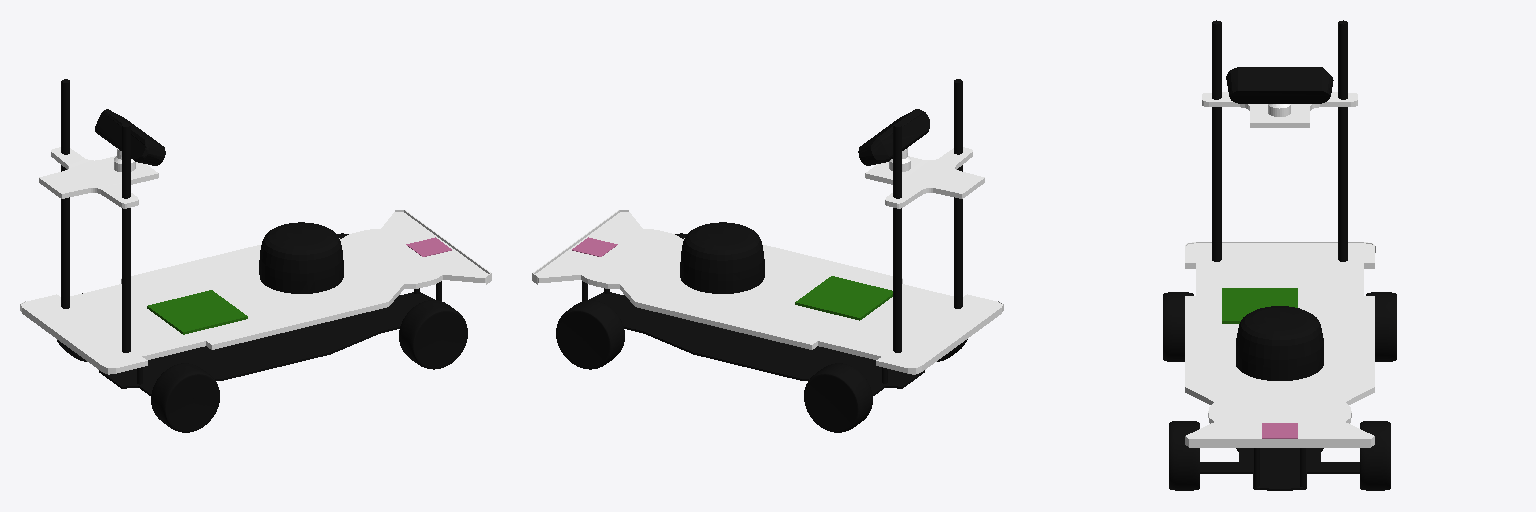
The robot description file, URDF, robot "car":
<?xml version="1.0"?>
<robot name="car">

  <material name="black">
    <color rgba="0.1 0.1 0.1 1"/>
  </material>

  <material name="plastic">
    <color rgba="1 1 1 0.25"/>
  </material>

  <material name="imu">
    <color rgba="0.2 0.5 0.1 1"/>
  </material>

  <material name="grey">
    <color rgba="0.75 0.75 0.75 1"/>
  </material>

  <material name="white">
    <color rgba="0.95 0.95 0.95 1"/>
  </material>		
  
  <link name="base_link">
    <visual>
      <origin rpy="0.0 0 0" xyz="0 0 0.01"/>
      <geometry>
        <mesh filename="package://car_description/meshes/chasi.dae"/>
      </geometry>
      <material name="black"/>
    </visual>
    <collision>
      <origin rpy="0.0 0 0" xyz="0 0 0.01"/>
      <geometry>
        <mesh filename="package://car_description/meshes/chasi.dae"/>
      </geometry>
    </collision>
  </link>

  <link name="board">
    <visual>
      <origin rpy="0.0 0 0" xyz="0 0 0"/>
      <geometry>
        <mesh filename="package://car_description/meshes/board.dae"/>
      </geometry>
      <material name="plastic"/>
    </visual>
    <collision>
      <geometry>
        <mesh filename="package://car_description/meshes/board.dae"/>
      </geometry>
    </collision>
    <inertial>
      <mass value="1.0"/>
      <inertia ixx="0.00213542" ixy="0.0" ixz="0.0" iyy="0.01235417" iyz="0.0" izz="0.01448542"/>
    </inertial>
  </link>

  <link name="camera">
    <visual>
      <origin rpy="-2.0944 0 -1.570796" xyz="0 0 0"/>
      <geometry>
        <mesh filename="package://car_description/meshes/camera.dae"/>
      </geometry>
      <material name="black"/>
    </visual>
    <collision>
      <origin rpy="-2.0944 0 -1.570796" xyz="0 0 0"/>
      <geometry>
        <mesh filename="package://car_description/meshes/camera.dae"/>
      </geometry>
    </collision>
    <inertial>
      <mass value="0.1"/>
      <inertia ixx="0.00001051" ixy="0.0" ixz="0.0" iyy="0.00006385" iyz="0.0" izz="0.00006403"/>
    </inertial>
  </link>

  <link name="camera_board">
    <visual>
      <origin rpy="0.0 0 0" xyz="0 0 0"/>
      <geometry>
        <mesh filename="package://car_description/meshes/camera_board.dae"/>
      </geometry>
      <material name="plastic"/>
    </visual>
    <collision>
      <geometry>
        <mesh filename="package://car_description/meshes/camera_board.dae"/>
      </geometry>
    </collision>
    <inertial>
      <mass value="0.1"/>
      <inertia ixx="0.00014165" ixy="0.0" ixz="0.0" iyy="0.00006758" iyz="0.0" izz="0.00020865"/>
    </inertial>
  </link>

  <link name="camera_bottom_screw_frame"/>

  <link name="camera_depth_frame"/>

  <link name="laser">
    <visual>
      <origin rpy="0.0 0 0" xyz="0 0 -0.02"/>
      <geometry>
        <mesh filename="package://car_description/meshes/laser.dae"/>
      </geometry>
      <material name="black"/>
    </visual>
    <collision>
       <origin rpy="0.0 0 0" xyz="0 0 -0.02"/>
      <geometry>
        <mesh filename="package://car_description/meshes/laser.dae"/>
      </geometry>
    </collision>
    <inertial>
      <mass value="0.1"/>
      <inertia ixx="0.00005965" ixy="0.0" ixz="0.0" iyy="0.00005759" iyz="0.0" izz="0.00009268"/>
    </inertial>
  </link>

  <link name="wheel_fl">
    <visual>
      <origin rpy="0.0 0 0" xyz="0 0 0"/>
      <geometry>
        <mesh filename="package://car_description/meshes/wheel.dae"/>
      </geometry>
      <material name="black"/>
    </visual>
    <collision>
      <geometry>
        <mesh filename="package://car_description/meshes/wheel.dae"/>
      </geometry>
    </collision>
    <inertial>
      <mass value="0.05"/>
      <inertia ixx="0.00001793" ixy="0.0" ixz="0.0" iyy="0.00002867" iyz="0.0" izz="0.00001813"/>
    </inertial>
  </link>

  <link name="wheel_fr">
    <visual>
      <origin rpy="0.0 0 0" xyz="0 0 0"/>
      <geometry>
        <mesh filename="package://car_description/meshes/wheel.dae"/>
      </geometry>
      <material name="black"/>
    </visual>
    <collision>
      <geometry>
        <mesh filename="package://car_description/meshes/wheel.dae"/>
      </geometry>
    </collision>
    <inertial>
      <mass value="0.05"/>
      <inertia ixx="0.00001793" ixy="0.0" ixz="0.0" iyy="0.00002867" iyz="0.0" izz="0.00001813"/>
    </inertial>
  </link>

  <link name="wheel_bl">
    <visual>
      <origin rpy="0.0 0 0" xyz="0 0 0"/>
      <geometry>
        <mesh filename="package://car_description/meshes/wheel.dae"/>
      </geometry>
      <material name="black"/>
    </visual>
    <collision>
      <geometry>
        <mesh filename="package://car_description/meshes/wheel.dae"/>
      </geometry>
    </collision>
    <inertial>
      <mass value="0.05"/>
      <inertia ixx="0.00001793" ixy="0.0" ixz="0.0" iyy="0.00002867" iyz="0.0" izz="0.00001813"/>
    </inertial>
  </link>

  <link name="wheel_br">
    <visual>
      <origin rpy="0.0 0 0" xyz="0 0 0"/>
      <geometry>
        <mesh filename="package://car_description/meshes/wheel.dae"/>
      </geometry>
      <material name="black"/>
    </visual>
    <collision>
      <geometry>>

        <mesh filename="package://car_description/meshes/wheel.dae"/>
      </geometry>
    </collision>
    <inertial>
      <mass value="0.05"/>
      <inertia ixx="0.00001793" ixy="0.0" ixz="0.0" iyy="0.00002867" iyz="0.0" izz="0.00001813"/>
    </inertial>
  </link>

  <link name="axis_fl">
    <visual>
      <origin rpy="0.0 0 0" xyz="0 0 0"/>
      <geometry>
        <box size="0.001 0.001 0.001"/>
      </geometry>
      <material name="black"/>
    </visual>
    <collision>
      <geometry>
        <box size="0.001 0.001 0.001"/>
      </geometry>
    </collision>
    <inertial>
      <mass value="0.1"/>
      <inertia ixx="0.00000002" ixy="0.0" ixz="0.0" iyy="0.00000002" iyz="0.0" izz="0.00000002"/>
    </inertial>
  </link>

  <link name="axis_fr">
    <visual>
      <origin rpy="0.0 0 0" xyz="0 0 0"/>
      <geometry>
        <box size="0.001 0.001 0.001"/>
      </geometry>
      <material name="black"/>
    </visual>
    <collision>
      <geometry>
        <box size="0.001 0.001 0.001"/>
      </geometry>
    </collision>
    <inertial>
      <mass value="0.1"/>
      <inertia ixx="0.00000002" ixy="0.0" ixz="0.0" iyy="0.00000002" iyz="0.0" izz="0.00000002"/>
    </inertial>
  </link>

  <link name="imu">
    <visual>
      <geometry>
        <box size="0.066 0.064 0.01"/>
      </geometry>
      <origin rpy="0 0 0" xyz="0 0 0"/> 
      <material name="imu"/>     
    </visual>
    <collision>
      <geometry>
        <box size="0.066 0.064 0.01"/>
      </geometry>
    </collision>
    <inertial>
      <mass value="0.2"/>
      <inertia ixx="0.00006993" ixy="0.0" ixz="0.0" iyy="0.00007427" iyz="0.0" izz="0.00014087"/>
    </inertial>
  </link>

  <link name="marker">
    <visual>
      <geometry>
        <mesh filename="package://car_description/meshes/marker.dae"/>
      </geometry>
      <origin rpy="0 0 1.5708" xyz="0 0 0"/>
          
    </visual>
    <collision>
      <geometry>
        <box size="0.03 0.03 0.000001"/>
      </geometry>
    </collision>
    <inertial>
      <mass value="0.001"/>
      <inertia ixx="0.00000008" ixy="0.0" ixz="0.0" iyy="0.00000008" iyz="0.0" izz="0.00000015"/>
    </inertial>
  </link>

  <link name="support_l">
    <visual>
      <geometry>
        <cylinder length="0.22" radius="0.004"/>
      </geometry>
      <origin rpy="0 0 0" xyz="0 0 0"/>
      <material name="black"/>      
    </visual>
    <collision>
      <geometry>
        <cylinder length="0.22" radius="0.004"/>
      </geometry>
    </collision>
    <inertial>
      <mass value="0.001"/>
      <inertia ixx="0.00000404" ixy="0.0" ixz="0.0" iyy="0.00000404" iyz="0.0" izz="0.00000001"/>
    </inertial>
  </link>

  <link name="support_r">
    <visual>
      <geometry>
        <cylinder length="0.22" radius="0.004"/>
      </geometry>
      <origin rpy="0 0 0" xyz="0 0 0"/>
      <material name="black"/>      
    </visual>
    <collision>
      <geometry>
        <cylinder length="0.22" radius="0.004"/>
      </geometry>
    </collision>
    <inertial>
      <mass value="0.001"/>
      <inertia ixx="0.00000404" ixy="0.0" ixz="0.0" iyy="0.00000404" iyz="0.0" izz="0.00000001"/>
    </inertial>
  </link>

  <joint name="base_link_board" type="fixed">
    <parent link="base_link"/>
    <child link="board"/>
    <origin xyz="-0.018 0 0.06"/>
  </joint>

  <joint name="board_cameraboard" type="fixed">
    <parent link="board"/>
    <child link="camera_board"/>
    <origin xyz="-0.160 0 0.15"/>
  </joint>

  <joint name="camera_cameraboard" type="fixed">
    <parent link="camera_board"/>
    <child link="camera"/>
    <origin xyz="0.035 0 0.03"/>
  </joint>

  <joint name="camera_depth" type="fixed">
    <parent link="camera"/>
    <child link="camera_depth_frame"/>
    <origin rpy="-1.57079632679 0 -1.57079632679"/>
  </joint>

  <joint name="camera_joint" type="fixed">
    <origin rpy="0 0 0" xyz="0.035 0 0.03"/>
    <parent link="camera_board"/>
    <child link="camera_bottom_screw_frame"/>
  </joint>

  <joint name="board_laster" type="fixed">
    <parent link="board"/>
    <child link="laser"/>
    <origin rpy="0 0 3.14159" xyz="0.05 0 0.025"/>
  </joint>

    <joint name="board_imu" type="fixed">
    <parent link="board"/>
    <child link="imu"/>
    <origin xyz="-0.06559 -0.017 0"/>
  </joint>

  <joint name="board_marker" type="fixed">
    <parent link="board"/>
    <child link="marker"/>
    <origin xyz="0.18 0 0.0025"/>
  </joint>

  <joint name="frontwheel_steering_left" type="revolute">
    <axis xyz="0 0 1"/>
    <limit effort="1000.0" lower="-0.55" upper="0.55" velocity="2"/>
    <parent link="base_link"/>
    <child link="axis_fl"/>
    <origin xyz="0.12 0.08 0.02"/>
  </joint>

  <joint name="frontwheel_steering_right" type="revolute">
    <axis xyz="0 0 1"/>
    <limit effort="1000.0" lower="-0.55" upper="0.55" velocity="2"/>
    <parent link="base_link"/>
    <child link="axis_fr"/>
    <origin xyz="0.12 -0.08 0.02"/>
  </joint>

  <joint name="frontwheel_left" type="revolute">
    <axis xyz="0 1 0"/>
    <anchor xyz="0 0 0"/>
    <parent link="axis_fl"/>
    <child link="wheel_fl"/>
    <origin xyz="0 0 0"/>
    <limit effort="0.1" lower="-1000000000000.0" upper="1000000000000.0" velocity="124"/>
  </joint>

  <joint name="frontwheel_right" type="revolute">
    <axis xyz="0 1 0"/>
    <parent link="axis_fr"/>
    <child link="wheel_fr"/>
    <origin xyz="0 0 0"/>
    <limit effort="0.1" lower="-1000000000000.0" upper="1000000000000.0" velocity="124"/>
  </joint>

   <joint name="rearwheel_left" type="revolute">
    <axis xyz="0 1 0"/>
    <parent link="base_link"/>
    <child link="wheel_bl"/>
    <origin xyz="-0.135 0.085 0.02"/>
    <limit effort="0.1" lower="-1000000000000.0" upper="1000000000000.0" velocity="124"/>
  </joint>

  <joint name="rearwheel_right" type="revolute">
    <axis xyz="0 1 0"/>
    <parent link="base_link"/>
    <child link="wheel_br"/>
    <origin xyz="-0.135 -0.085 0.02"/>
    <limit effort="0.1" lower="-1000000000000.0" upper="1000000000000.0" velocity="124"/>
  </joint>

  <joint name="board_support_l" type="fixed">
    <parent link="board"/>
    <child link="support_l"/>
    <origin xyz="-0.159000 0.053000 0.112000"/>
  </joint>

  <joint name="board_support_r" type="fixed">
    <parent link="board"/>
    <child link="support_r"/>
    <origin xyz="-0.159000 -0.053000 0.112000"/>
  </joint>

  <transmission name="steering_front_left_wheel">
    <type>transmission_interface/SimpleTransmission</type>
    <joint name="frontwheel_steering_left">
      <hardwareInterface>hardware_interface/EffortJointInterface</hardwareInterface>
    </joint>
    <actuator name="front_left_steering_motor">
      <hardwareInterface>hardware_interface/EffortJointInterface</hardwareInterface>
      <mechanicalReduction>1</mechanicalReduction>
    </actuator>
  </transmission>

  <transmission name="steering_front_right_wheel">
    <type>transmission_interface/SimpleTransmission</type>
    <joint name="frontwheel_steering_right">
      <hardwareInterface>hardware_interface/EffortJointInterface</hardwareInterface>
    </joint>
    <actuator name="front_right_steering_motor">
      <hardwareInterface>hardware_interface/EffortJointInterface</hardwareInterface>
      <mechanicalReduction>1</mechanicalReduction>
    </actuator>
  </transmission>

  <transmission name="tran_front_left_wheel">
    <type>transmission_interface/SimpleTransmission</type>
    <joint name="frontwheel_left">
      <hardwareInterface>hardware_interface/EffortJointInterface</hardwareInterface>
    </joint>
    <actuator name="front_left_wheel_motor">
      <hardwareInterface>hardware_interface/EffortJointInterface</hardwareInterface>
      <mechanicalReduction>1</mechanicalReduction>
    </actuator>
  </transmission>

  <transmission name="tran_front_right_wheel">
    <type>transmission_interface/SimpleTransmission</type>
    <joint name="frontwheel_right">
      <hardwareInterface>hardware_interface/EffortJointInterface</hardwareInterface>
    </joint>
    <actuator name="front_right_wheel_motor">
      <hardwareInterface>hardware_interface/EffortJointInterface</hardwareInterface>
      <mechanicalReduction>1</mechanicalReduction>
    </actuator>
  </transmission>

  <transmission name="tran_rear_left">
    <type>transmission_interface/SimpleTransmission</type>
    <joint name="rearwheel_left">
      <hardwareInterface>hardware_interface/EffortJointInterface</hardwareInterface>
    </joint>
    <actuator name="rear_left_motor">
      <hardwareInterface>hardware_interface/EffortJointInterface</hardwareInterface>
      <mechanicalReduction>1</mechanicalReduction>
    </actuator>
  </transmission>

  <transmission name="tran_rear_right">
    <type>transmission_interface/SimpleTransmission</type>
    <joint name="rearwheel_right">
      <hardwareInterface>hardware_interface/EffortJointInterface</hardwareInterface>
    </joint>
    <actuator name="rear_right_motor">
      <hardwareInterface>hardware_interface/EffortJointInterface</hardwareInterface>
      <mechanicalReduction>1</mechanicalReduction>
    </actuator>
  </transmission>

  <gazebo reference="rearwheel_left">
    <implicitSpringDamper>true</implicitSpringDamper>
  </gazebo>
  <gazebo reference="rearwheel_right">
    <implicitSpringDamper>true</implicitSpringDamper>
  </gazebo>
  <gazebo reference="frontwheel_right">
    <implicitSpringDamper>true</implicitSpringDamper>
  </gazebo>
  <gazebo reference="frontwheel_left">
    <implicitSpringDamper>true</implicitSpringDamper>
  </gazebo>
  <gazebo reference="frontwheel_steering_right">
    <implicitSpringDamper>true</implicitSpringDamper>
  </gazebo>
  <gazebo reference="frontwheel_steering_left">
    <implicitSpringDamper>true</implicitSpringDamper>
  </gazebo>
  <gazebo>
    <plugin filename="libgazebo_ros_control.so" name="gazebo_ros_control">
      <robotNamespace>model_car</robotNamespace>
    </plugin>
  </gazebo>

  <gazebo>
    <plugin name="model_car_ground_truth" filename="libgazebo_ros_p3d.so">
      <frameName>map</frameName>
      <bodyName>base_link</bodyName>
      <topicName>/simulation/odom_ground_truth</topicName>
      <updateRate>30.0</updateRate>
    </plugin>
  </gazebo>

  <gazebo>
    <plugin filename="libhector_gazebo_ros_imu.so" name="autominy_imu">
      <updateRate>100.0</updateRate>
      <robotNamespace>/</robotNamespace>
      <bodyName>imu</bodyName>
      <frameId>imu</frameId>
      <topicName>sensors/imu</topicName>
      <accelOffset>0 0 0</accelOffset>
      <accelDrift>0.5 0.5 0.5</accelDrift>
      <accelGaussianNoise>0.15 0.15 0.1</accelGaussianNoise>
      <rateOffset>0 0 0</rateOffset>
      <rateDrift>0.0 0.0 0.0</rateDrift>
      <rateGaussianNoise>0.005 0.005 0.0015</rateGaussianNoise>
      <headingOffset>0</headingOffset>
      <headingDrift>0.1</headingDrift>
      <headingGaussianNoise>0.05</headingGaussianNoise>
    </plugin>
  </gazebo>

  <gazebo reference="camera">
    <sensor type="depth" name="camera1">       
      <always_on>1</always_on>
      <visualize>true</visualize>
      <update_rate>15.0</update_rate>
      <camera>
        <pose>0 0 0 0 0.30 0</pose>
        <horizontal_fov>1.59174</horizontal_fov>
        <image>
          <width>640</width>
          <height>480</height>
          <format>L8</format>
        </image>
        <depth_camera>
        </depth_camera>
        <clip>
          <near>0.01</near>
          <far>50.0</far>
        </clip>
        <noise>
          <type>gaussian</type>
          <mean>0.0</mean>
          <stddev>0.007</stddev>
        </noise>
      </camera>
      <plugin name="camera_controller" filename="libgazebo_ros_openni_kinect.so">
        <alwaysOn>true</alwaysOn>
        <updateRate>15.0</updateRate>
        <cameraName>sensors/camera</cameraName>
        <frameName>camera_depth_frame</frameName>                   
        <imageTopicName>infra1/image_rect_color</imageTopicName>
        <cameraInfoTopicName>infra1/camera_info</cameraInfoTopicName>
        <depthImageTopicName>depth/image_rect_raw</depthImageTopicName>
        <pointCloudTopicName>depth/points</pointCloudTopicName>
        <depthImageCameraInfoTopicName>depth/camera_info</depthImageCameraInfoTopicName>            
        <pointCloudCutoff>0.4</pointCloudCutoff>                
        <hackBaseline>0.007</hackBaseline>
        <CxPrime>322.3056945800781</CxPrime>
        <Cx>322.3056945800781</Cx>
        <Cy>241.67051696777344</Cy>
        <focalLength>383.7944641113281</focalLength>
        <noise>
          <type>gaussian</type>
          <mean>0.0</mean>
          <stddev>0.01</stddev>
        </noise>
      </plugin>
    </sensor>
  </gazebo>

  <gazebo reference="camera">
    <sensor type="camera" name="camera2">
      <update_rate>15.0</update_rate>
      <camera>
        <pose>0 0 0 0 0.30 0</pose>
        <horizontal_fov>0.7417649</horizontal_fov>
        <image>
          <width>640</width>
          <height>480</height>
          <format>R8G8B8</format>
        </image>
        <clip>
          <near>0.01</near>
          <far>50.0</far>
        </clip>
        <noise>
          <type>gaussian</type>
          <mean>0.0</mean>
          <stddev>0.01</stddev>
        </noise>
      </camera>
      <plugin name="camera_controller2" filename="libgazebo_ros_camera.so">
        <alwaysOn>true</alwaysOn>
        <updateRate>15.0</updateRate>
        <cameraName>sensors/camera/color</cameraName>
        <imageTopicName>image_rect_color</imageTopicName>
        <cameraInfoTopicName>camera_info</cameraInfoTopicName>
        <frameName>camera</frameName>
        <hackBaseline>0.0193</hackBaseline>
        <distortionK1>0.0</distortionK1>
        <distortionK2>0.0</distortionK2>
        <distortionK3>0.0</distortionK3>
        <distortionT1>0.0</distortionT1>
        <distortionT2>0.0</distortionT2>
      </plugin>
    </sensor>
  </gazebo>

  <gazebo reference="laser">
    <sensor type="ray" name="rp_lidar_sensor">
      <pose>0 0 0 0 0 0</pose>
      <visualize>false</visualize>
      <update_rate>10</update_rate>
      <ray>
        <scan>
          <horizontal>
            <samples>360</samples>
            <min_angle>-3.14159</min_angle>
            <max_angle>3.14159</max_angle>
          </horizontal>
        </scan>
        <range>
          <min>0.15</min>
          <max>8.0</max>
          <resolution>0.05</resolution>
        </range>
        <noise>
          <type>gaussian</type>
          <mean>0.0</mean>
          <stddev>0.01</stddev>
        </noise>
      </ray>
      <plugin name="gazebo_ros_head_hokuyo_controller" filename="libgazebo_ros_laser.so">
        <topicName>/sensors/rplidar/scan</topicName>
        <frameName>laser</frameName>
      </plugin>
    </sensor>
  </gazebo>
  <gazebo reference="wheel_fl">
    <mu1>1.34</mu1>
    <mu2>1.34</mu2>  
  </gazebo>
  <gazebo reference="wheel_fr">
    <mu1>1.34</mu1>
    <mu2>1.34</mu2>  
  </gazebo>
  <gazebo reference="wheel_br">
    <mu1>1.34</mu1>
    <mu2>1.34</mu2>  
  </gazebo>
  <gazebo reference="wheel_bl">
    <mu1>1.34</mu1>
    <mu2>1.34</mu2>  
  </gazebo>

  <gazebo reference="support_r">
    <material>Gazebo/Black</material>
  </gazebo>

  <gazebo reference="support_l">
    <material>Gazebo/Black</material>
  </gazebo>
</robot>

--- What the picture shows (computed from the rendered views, not written in the file) ---
The picture shows the robot from 3 angles, left to right: view 1: azimuth 30°, elevation 25°; view 2: azimuth 150°, elevation 25°; view 3: azimuth 270°, elevation 25°; orthographic projection.
Robot: car — 17 links, 16 joints (6 revolute, 10 fixed); root link base_link; default pose: every joint at zero.
Links seen in each view (by area): view 1: board, base_link, laser, wheel_br, wheel_fr, camera_board, imu, support_r, camera, support_l; view 2: board, base_link, laser, wheel_bl, wheel_fl, camera_board, imu, support_l, camera, support_r; view 3: board, laser, base_link, camera, support_l, support_r, camera_board, wheel_fl, wheel_fr, imu, wheel_bl, wheel_br (+1 smaller).
Link boxes in pixels (<box>): board: <box>20,210,491,374</box>; base_link: <box>99,281,441,395</box>; laser: <box>259,222,343,293</box>; wheel_br: <box>151,363,219,432</box>; wheel_fr: <box>399,300,467,369</box>; camera_board: <box>39,147,158,208</box>; imu: <box>147,290,247,334</box>; support_r: <box>122,123,130,352</box>; camera: <box>95,109,165,165</box>; support_l: <box>61,79,69,308</box>; board: <box>532,210,1003,374</box>; base_link: <box>582,281,924,395</box>; laser: <box>680,222,764,293</box>; wheel_bl: <box>804,363,872,432</box>; wheel_fl: <box>556,300,624,369</box>; camera_board: <box>865,147,984,208</box>; imu: <box>795,276,892,320</box>; support_l: <box>893,123,901,352</box>; camera: <box>858,109,929,165</box>; support_r: <box>954,79,962,308</box>; board: <box>1185,242,1375,447</box>; laser: <box>1236,306,1323,380</box>; base_link: <box>1200,448,1359,490</box>; camera: <box>1226,67,1333,103</box>; support_l: <box>1338,20,1347,261</box>; support_r: <box>1212,20,1221,261</box>; camera_board: <box>1202,92,1357,127</box>; wheel_fl: <box>1360,421,1390,490</box>; wheel_fr: <box>1169,421,1199,490</box>; imu: <box>1222,288,1297,323</box>; wheel_bl: <box>1366,292,1396,361</box>; wheel_br: <box>1163,292,1193,361</box>.
Size in the robot's own frame: 0.4049 by 0.1959 by 0.2913 metres.
10 mesh visuals loaded from 7 distinct referenced files (7 Collada DAE).
